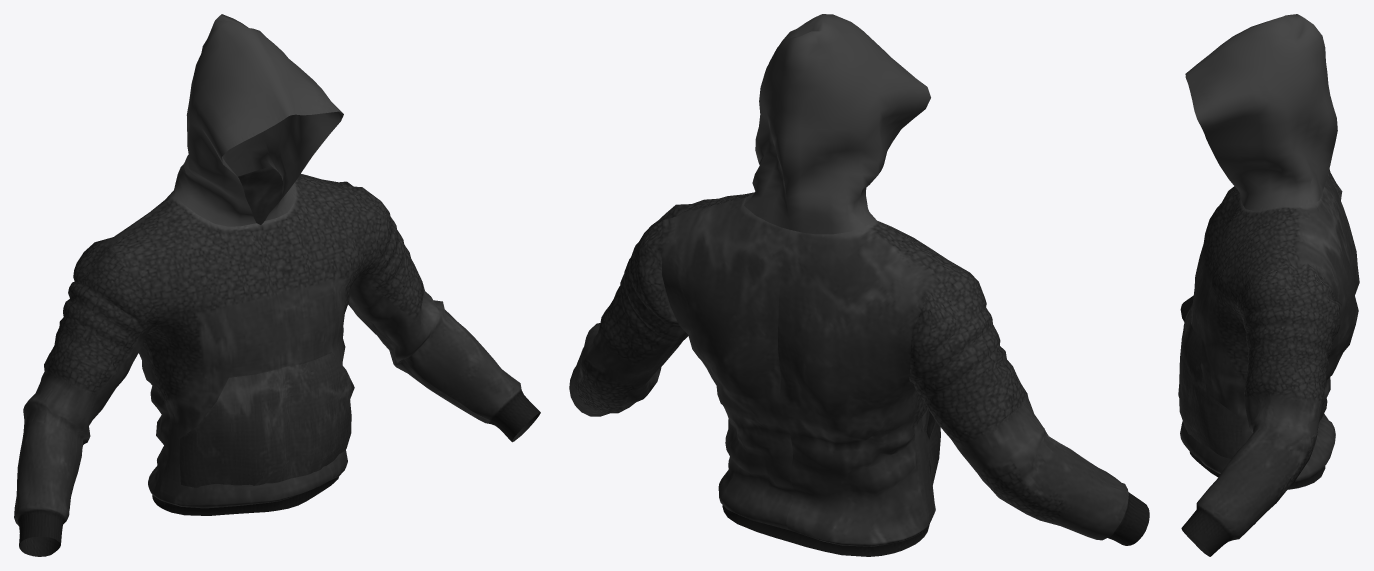
The model's file is this_is_a_low-poly_hoodie.glb.
The picture shows the model from 3 angles, left to right: view 1: azimuth 30°, elevation 25°; view 2: azimuth 150°, elevation 25°; view 3: azimuth 270°, elevation 25°; orthographic projection. The views are drawn at different scales.
Parts seen in each view (by area): view 1: defaultMaterial; view 2: defaultMaterial; view 3: defaultMaterial.
Part boxes in pixels (box(x1,y1,x2,y2)): defaultMaterial: box(14, 14, 540, 556); defaultMaterial: box(569, 14, 1149, 556); defaultMaterial: box(1178, 14, 1359, 556).
Size of the model in its own units: 991 by 842 by 316.
Materials: 1 (1 with a texture image).
